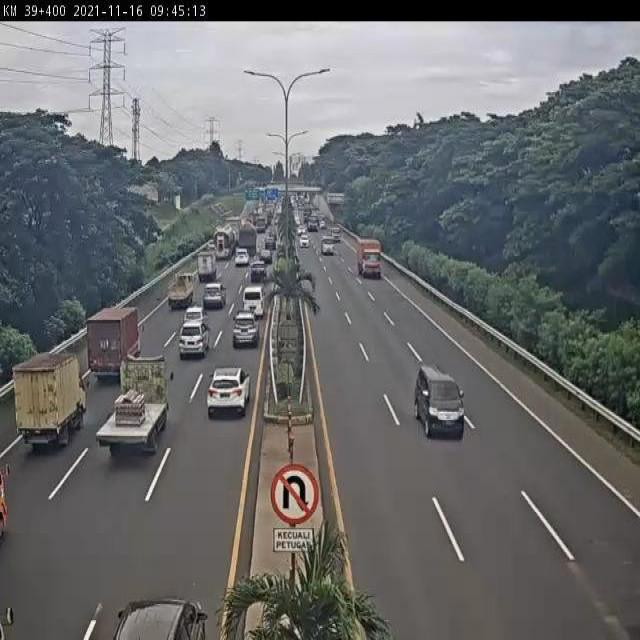car: (416, 367, 464, 437), (205, 369, 252, 422), (179, 322, 207, 358), (232, 313, 260, 348), (202, 283, 226, 312), (247, 262, 268, 286), (182, 307, 204, 329)
small bus: (241, 290, 263, 322)
small truck: (14, 351, 87, 448), (167, 272, 193, 309), (196, 251, 218, 284)
truck-m-: (95, 357, 174, 456), (87, 306, 148, 378)
